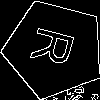R: (29, 24, 85, 71)
